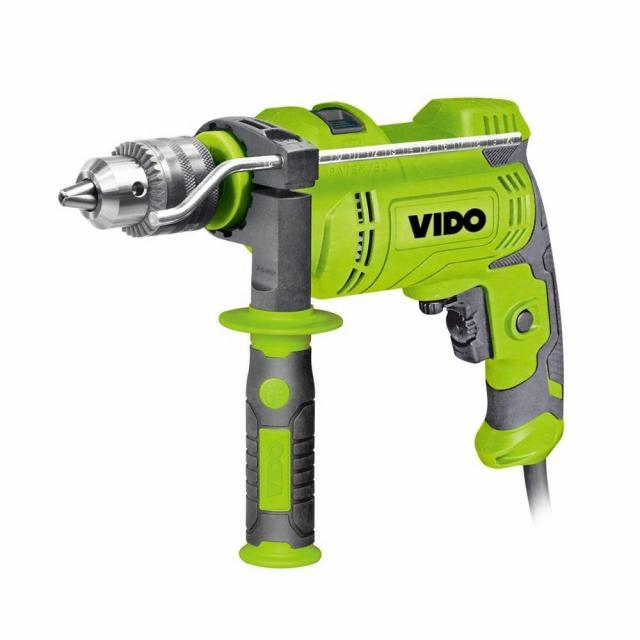drill: (57, 96, 565, 570)
